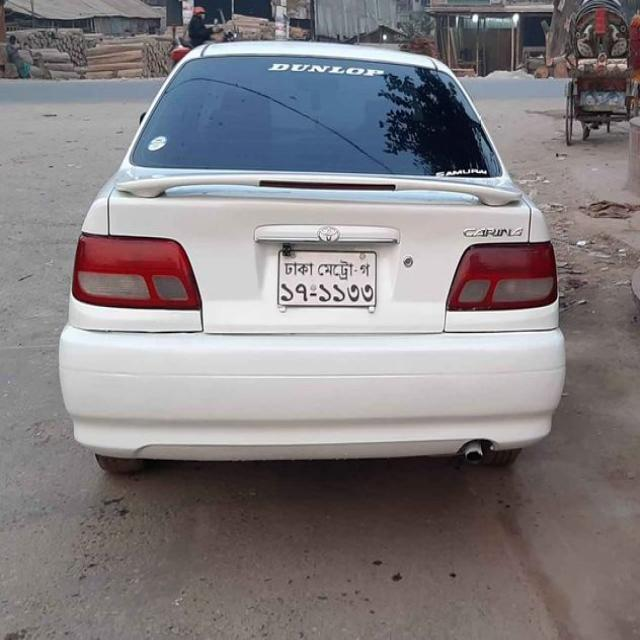numberplate: (276, 248, 377, 310)
